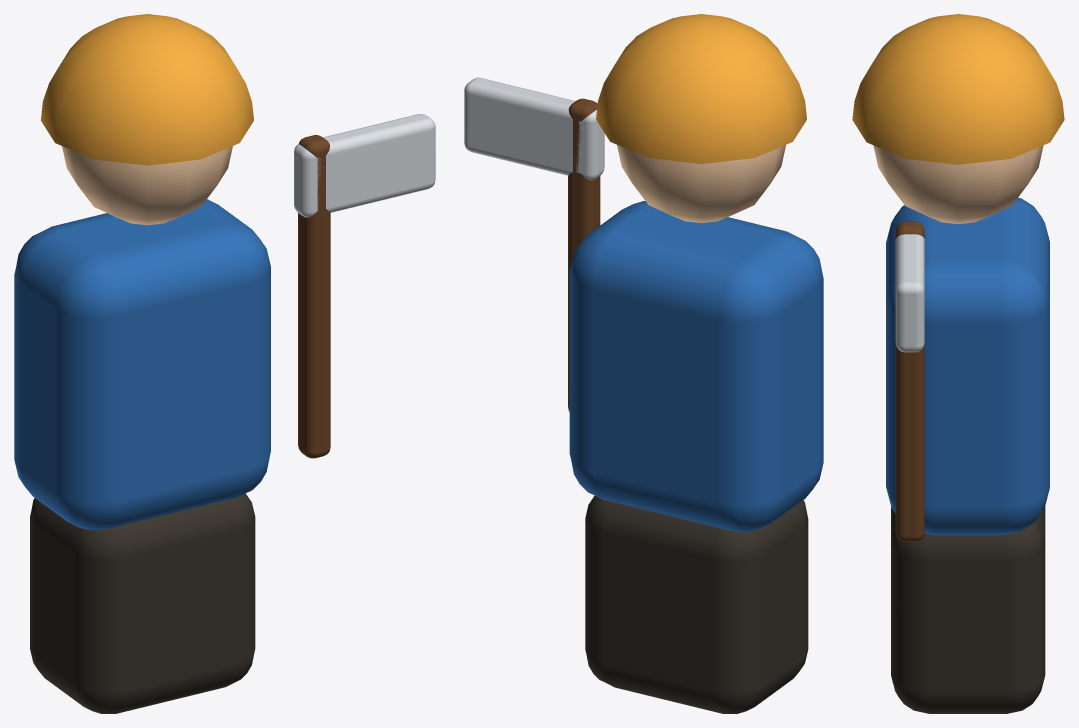
Rendered from cutter.glb.
The picture shows the model from 3 angles, left to right: view 1: azimuth 30°, elevation 25°; view 2: azimuth 150°, elevation 25°; view 3: azimuth 270°, elevation 25°; orthographic projection.
Size of the model in its own units: 0.87 by 1.51 by 0.44.
